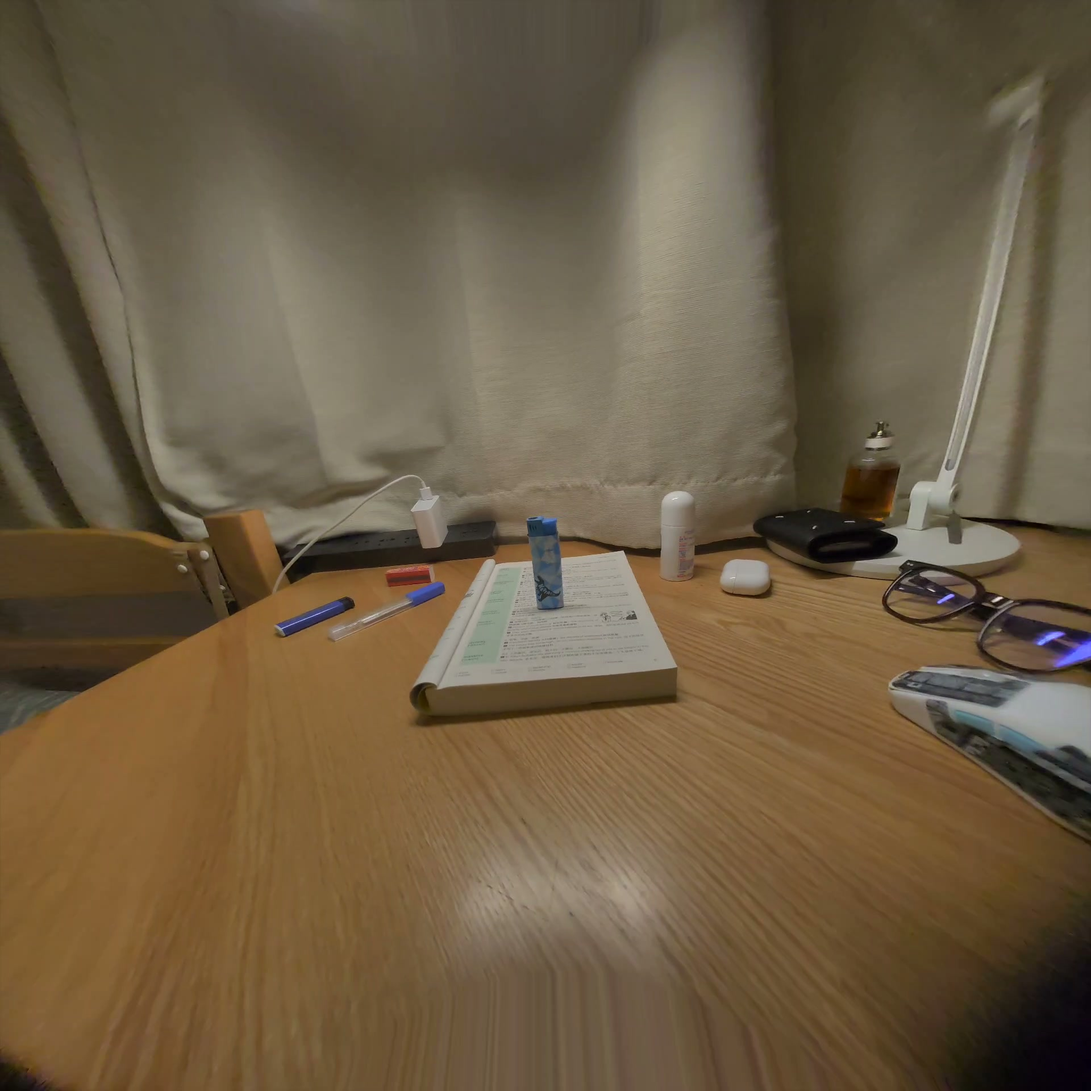lighter: (527, 517, 564, 610)
